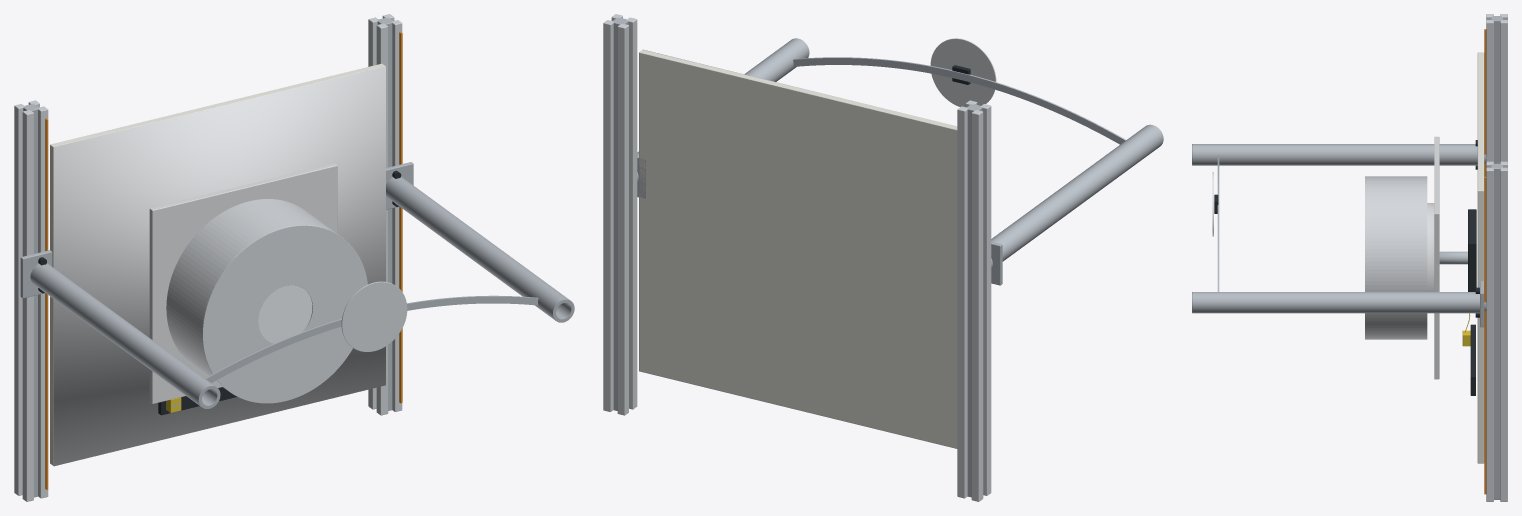
Rendered from apparatus_cooler_black.glb.
3 views of the same model, side by side, from view 1: azimuth 30°, elevation 25°; view 2: azimuth 150°, elevation 25°; view 3: azimuth 270°, elevation 25° (orthographic). The views are drawn at different scales.
Parts seen in each view (by area): view 1: COOLER_BLACK__mylar_base, COOLER_BLACK__aperture_plate, COOLER_BLACK__lift_plate, COOLER_BLACK__radiation_shield, COOLER_BLACK__upright_-0.1625, COOLER_BLACK__upright_0.1625, COOLER_BLACK__rail_-0.1625_flange_-1_1, COOLER_BLACK__solar_reflector, COOLER_BLACK__rail_-0.1625_flange_-1_-1, COOLER_BLACK__rail_-0.1625_flange_1_1, COOLER_BLACK__acrylic_base, COOLER_BLACK__rail_0.1625_flange_1_1 (+9 smaller); view 2: COOLER_BLACK__acrylic_base, COOLER_BLACK__upright_-0.1625, COOLER_BLACK__rail_-0.1625_flange_-1_-1, COOLER_BLACK__rail_0.1625_flange_-1_-1, COOLER_BLACK__rail_-0.1625_flange_1_-1, COOLER_BLACK__rail_0.1625_flange_1_-1, COOLER_BLACK__rail_0.1625_flange_-1_1, COOLER_BLACK__rail_-0.1625_flange_-1_1, COOLER_BLACK__solar_reflector, COOLER_BLACK__reflector_track, COOLER_BLACK__rail_0.1625_core, COOLER_BLACK__rail_-0.1625_core (+1 smaller); view 3: COOLER_BLACK__radiation_shield, COOLER_BLACK__upright_0.1625, COOLER_BLACK__upright_-0.1625, COOLER_BLACK__acrylic_base, COOLER_BLACK__rail_0.1625_flange_1_-1, COOLER_BLACK__rail_0.1625_flange_1_1, COOLER_BLACK__rail_0.1625_core, COOLER_BLACK__lift_plate, COOLER_BLACK__rail_-0.1625_flange_1_1, COOLER_BLACK__rail_-0.1625_flange_1_-1, COOLER_BLACK__rail_-0.1625_core, COOLER_BLACK__orange_insert_0.1625 (+6 smaller).
Boxes of the visible parts, x1,y1,x2,y2 form: COOLER_BLACK__mylar_base: (53,66,385,466); COOLER_BLACK__aperture_plate: (202,225,367,403); COOLER_BLACK__lift_plate: (149,163,337,403); COOLER_BLACK__radiation_shield: (166,199,336,388); COOLER_BLACK__upright_-0.1625: (30,263,220,409); COOLER_BLACK__upright_0.1625: (386,177,574,322); COOLER_BLACK__rail_-0.1625_flange_-1_1: (22,110,33,501); COOLER_BLACK__solar_reflector: (341,281,407,351); COOLER_BLACK__rail_-0.1625_flange_-1_-1: (14,104,24,495); COOLER_BLACK__rail_-0.1625_flange_1_1: (38,106,48,498); COOLER_BLACK__acrylic_base: (50,63,384,465); COOLER_BLACK__rail_0.1625_flange_1_1: (392,20,402,411); COOLER_BLACK__acrylic_base: (639,50,957,448); COOLER_BLACK__upright_-0.1625: (991,124,1163,268); COOLER_BLACK__rail_-0.1625_flange_-1_-1: (971,110,983,501); COOLER_BLACK__rail_0.1625_flange_-1_-1: (617,24,628,415); COOLER_BLACK__rail_-0.1625_flange_1_-1: (957,106,967,498); COOLER_BLACK__rail_0.1625_flange_1_-1: (603,20,613,411); COOLER_BLACK__rail_0.1625_flange_-1_1: (626,17,637,409); COOLER_BLACK__rail_-0.1625_flange_-1_1: (981,104,991,495); COOLER_BLACK__solar_reflector: (930,38,996,106); COOLER_BLACK__reflector_track: (793,57,1125,144); COOLER_BLACK__rail_0.1625_core: (613,17,628,410); COOLER_BLACK__rail_-0.1625_core: (967,104,982,497); COOLER_BLACK__radiation_shield: (1366,176,1427,339); COOLER_BLACK__upright_0.1625: (1192,292,1486,313); COOLER_BLACK__upright_-0.1625: (1192,144,1486,165); COOLER_BLACK__acrylic_base: (1477,52,1484,463); COOLER_BLACK__rail_0.1625_flange_1_-1: (1500,167,1507,501); COOLER_BLACK__rail_0.1625_flange_1_1: (1486,167,1493,501); COOLER_BLACK__rail_0.1625_core: (1491,163,1502,499); COOLER_BLACK__lift_plate: (1434,136,1439,379); COOLER_BLACK__rail_-0.1625_flange_1_1: (1486,20,1493,161); COOLER_BLACK__rail_-0.1625_flange_1_-1: (1500,20,1507,161); COOLER_BLACK__rail_-0.1625_core: (1491,16,1502,163); COOLER_BLACK__orange_insert_0.1625: (1484,176,1486,494).
Bounding box in the file's own units: 0.359 × 0.34 × 0.2935.
